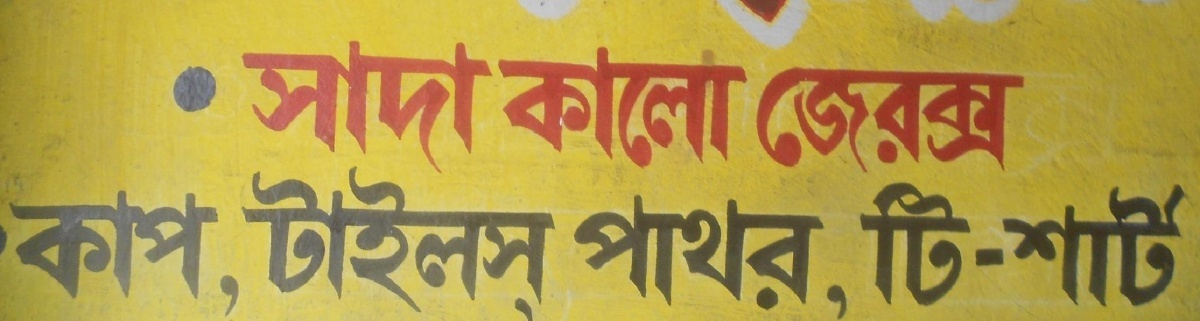text: (241, 164, 256, 321), (257, 164, 272, 321), (273, 164, 288, 321), (289, 164, 304, 321), (305, 164, 320, 321), (321, 164, 336, 321), (337, 164, 352, 321), (353, 164, 368, 321), (369, 164, 384, 321), (385, 164, 400, 321), (401, 164, 416, 321), (417, 164, 432, 321), (433, 164, 448, 321), (449, 164, 464, 321), (465, 164, 480, 321), (481, 164, 496, 321), (497, 164, 512, 321), (513, 164, 528, 321), (529, 164, 544, 321), (481, 39, 497, 185), (545, 164, 559, 321), (257, 39, 272, 185), (273, 39, 288, 185), (289, 39, 304, 185), (305, 39, 320, 185), (321, 39, 336, 185), (337, 39, 352, 185), (353, 39, 368, 185), (369, 39, 384, 185), (385, 39, 400, 185), (401, 39, 416, 185), (417, 39, 432, 185), (433, 39, 448, 185), (449, 39, 464, 185), (465, 39, 480, 185), (1169, 180, 1185, 312), (225, 189, 241, 320), (242, 39, 256, 185), (865, 180, 880, 312), (881, 180, 896, 312), (897, 180, 912, 312), (913, 180, 928, 312), (929, 180, 944, 312), (945, 180, 960, 312), (961, 180, 976, 312), (977, 180, 992, 312), (993, 180, 1008, 312), (1009, 180, 1024, 312), (1025, 180, 1040, 312), (1041, 180, 1056, 312), (1057, 180, 1072, 312), (1073, 180, 1088, 312), (1089, 180, 1104, 312), (1105, 180, 1120, 312), (1121, 180, 1136, 312), (1137, 180, 1152, 312), (1153, 180, 1168, 312), (17, 189, 32, 320), (33, 189, 48, 320), (49, 189, 64, 320), (65, 189, 80, 320), (81, 189, 96, 320), (97, 189, 112, 320), (113, 189, 128, 320), (129, 189, 144, 320), (145, 189, 160, 320), (161, 189, 176, 320), (177, 189, 192, 320), (193, 189, 208, 320), (209, 189, 224, 320), (577, 191, 592, 320), (593, 191, 608, 320), (609, 191, 624, 320), (625, 191, 640, 320), (641, 191, 656, 320), (657, 191, 672, 320), (673, 191, 688, 320), (689, 191, 704, 320), (705, 191, 720, 320), (721, 191, 736, 320), (737, 191, 752, 320), (753, 191, 768, 320), (769, 191, 784, 320), (785, 191, 800, 320), (801, 191, 816, 320), (817, 191, 832, 320), (833, 191, 848, 320), (497, 47, 512, 172), (513, 47, 528, 172), (529, 47, 544, 172), (545, 47, 560, 172), (561, 47, 576, 172), (577, 47, 592, 172), (593, 47, 608, 172), (609, 47, 624, 172), (625, 47, 640, 172), (641, 47, 656, 172), (657, 47, 672, 172), (673, 47, 688, 172), (689, 47, 704, 172), (705, 47, 720, 172), (721, 47, 736, 172), (737, 47, 751, 172), (769, 64, 784, 178), (785, 64, 800, 178), (801, 64, 816, 178), (817, 64, 832, 178), (833, 64, 848, 178), (849, 64, 864, 178), (865, 64, 880, 178), (881, 64, 896, 178), (897, 64, 912, 178), (913, 64, 928, 178), (929, 64, 944, 178), (945, 64, 960, 178), (961, 64, 976, 178), (977, 64, 992, 178), (993, 64, 1008, 178), (1009, 64, 1024, 178), (756, 64, 768, 178), (568, 191, 576, 320), (9, 189, 16, 320), (177, 59, 192, 117), (193, 59, 208, 117), (721, 1, 736, 48), (737, 1, 752, 48), (753, 1, 768, 48), (769, 1, 784, 48), (785, 1, 800, 48), (801, 1, 816, 48), (859, 180, 864, 312), (817, 1, 831, 48), (209, 59, 220, 117), (709, 1, 720, 48), (237, 164, 240, 321), (168, 59, 176, 117), (1025, 64, 1029, 178), (913, 1, 928, 28), (929, 1, 944, 28), (945, 1, 960, 28), (961, 1, 976, 28), (977, 1, 992, 28), (993, 1, 1008, 28), (1009, 1, 1024, 28), (529, 1, 544, 27), (545, 1, 560, 27), (561, 1, 576, 27), (849, 191, 851, 320), (519, 1, 528, 27), (907, 1, 912, 28), (577, 1, 581, 27), (1025, 1, 1027, 28)
